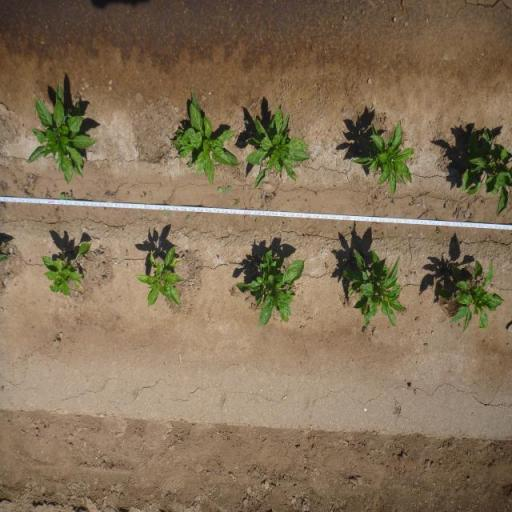plant: (25, 80, 98, 184), (169, 87, 240, 186), (235, 245, 307, 328), (246, 105, 311, 192), (453, 124, 512, 218), (434, 258, 504, 334), (349, 118, 417, 195), (343, 245, 404, 330), (133, 242, 185, 309), (42, 238, 92, 298)
weed: (218, 185, 232, 199), (59, 190, 75, 200), (229, 285, 236, 297), (186, 210, 192, 222), (44, 188, 51, 198), (234, 198, 241, 207), (163, 209, 173, 215), (436, 228, 443, 236), (52, 184, 57, 194), (412, 196, 417, 206), (140, 191, 146, 199), (26, 182, 31, 190), (54, 206, 60, 212), (324, 264, 330, 270), (245, 118, 250, 124), (216, 254, 220, 260)
